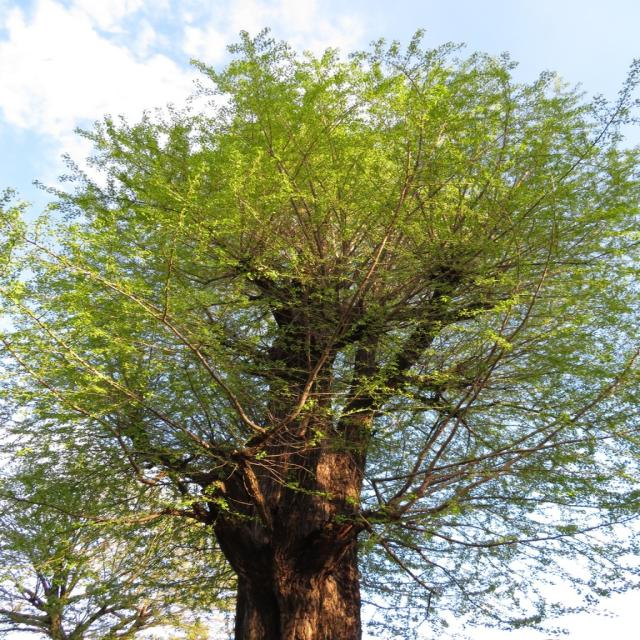ginkgo: (0, 24, 640, 640)
